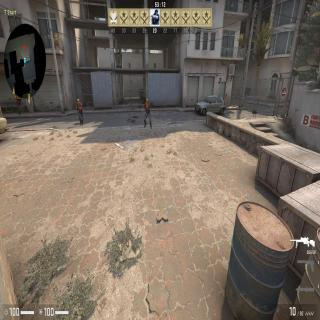T-Body: (142, 96, 152, 129), (75, 98, 84, 126)
T-Head: (76, 99, 80, 103), (146, 98, 148, 103)
